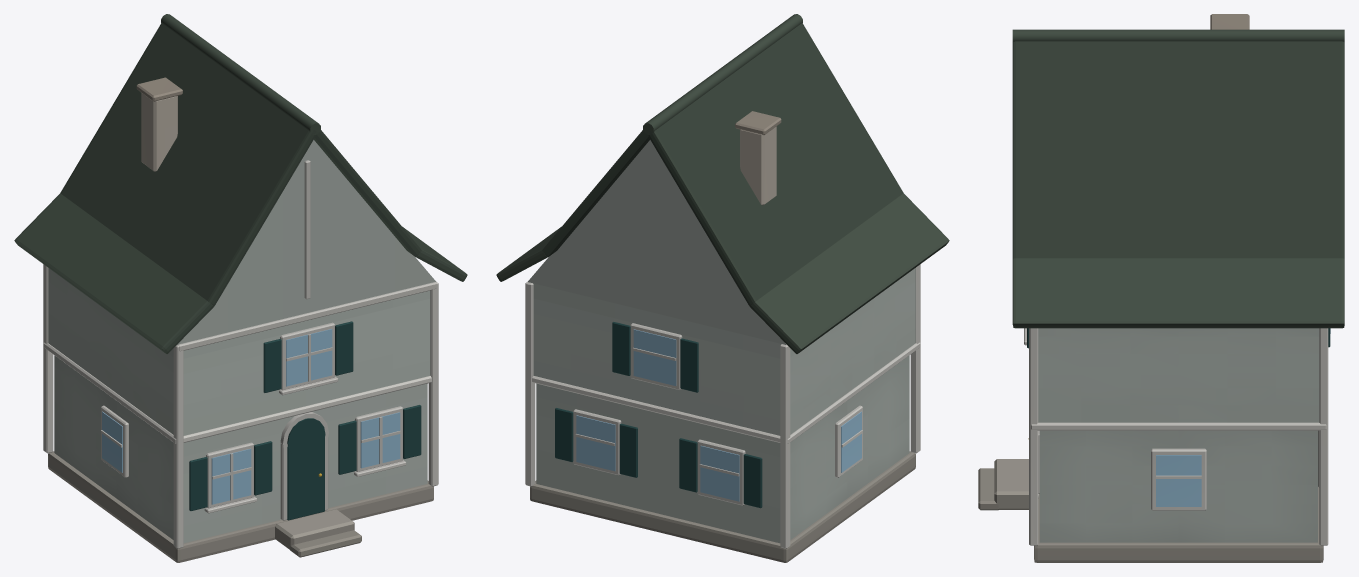
Rendered from cottage-4.glb.
The picture shows the model from 3 angles, left to right: view 1: azimuth 30°, elevation 25°; view 2: azimuth 150°, elevation 25°; view 3: azimuth 270°, elevation 25°; orthographic projection. The views are drawn at different scales.
Visible parts, largest first — view 1: cottage-4; view 2: cottage-4; view 3: cottage-4.
Part boxes in pixels (box(x1,y1,x2,y2)): cottage-4: box(14, 14, 467, 562); cottage-4: box(496, 14, 949, 562); cottage-4: box(978, 14, 1344, 562).
Size of the model in its own units: 8.62 by 11.24 by 8.05.
